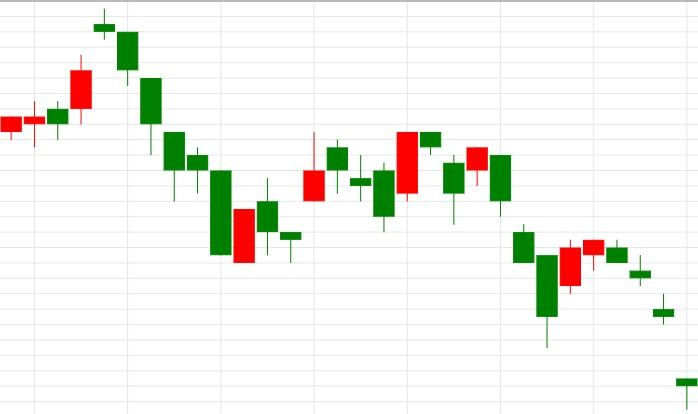three_white_soldiers_rise: (0, 9, 163, 155)
